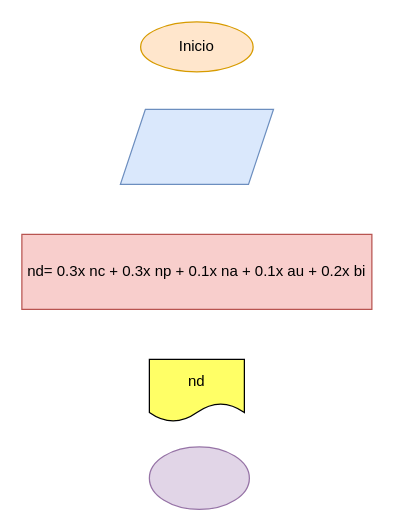
Some shapes in this 394 by 531 pixel diagram are drawn without their labels. Here are the shapes that lost their labels. From the top down, the box of each, then its label:
(119, 108, 274, 184): nc, np, na, au, bi
(148, 446, 249, 509): FIN
